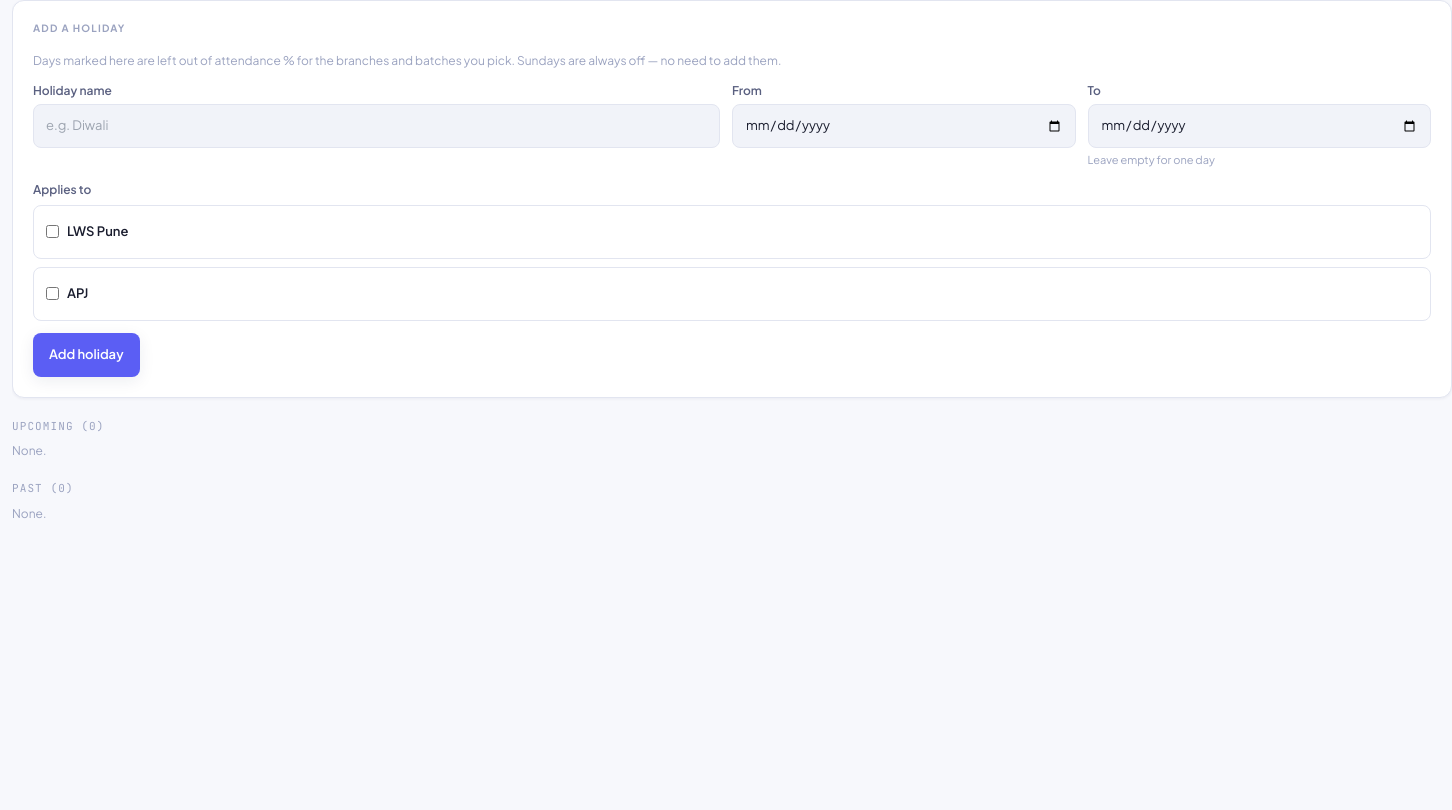
Scenario: HolidaysTab › shows the reason a save was refused and keeps the form filled
In the field labelled "Holiday name": (376, 126) x1=33 y1=104 x2=720 y2=148, type "Diwali"
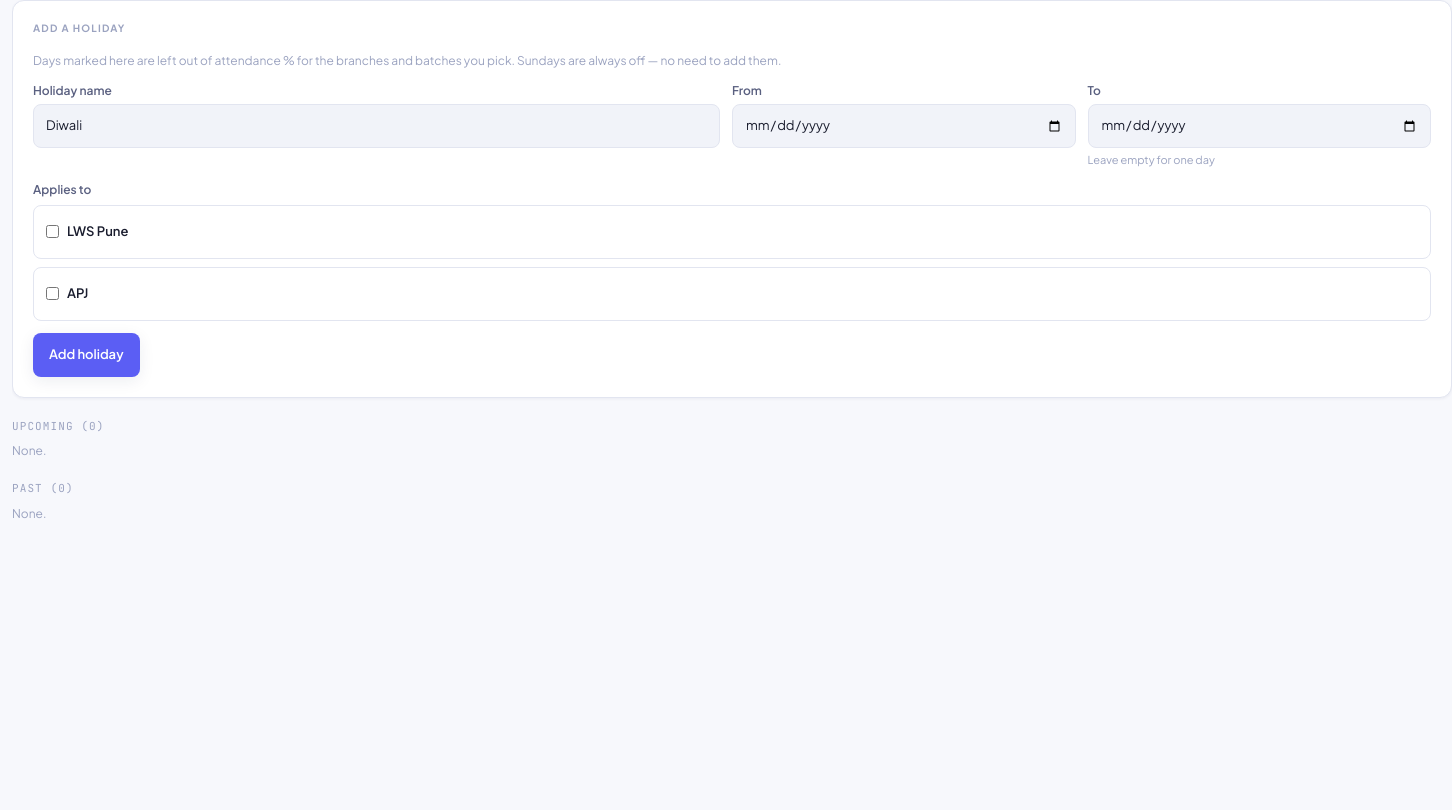
In the date field labelled "From": (904, 126) x1=732 y1=104 x2=1076 y2=148, type "2026-11-09"
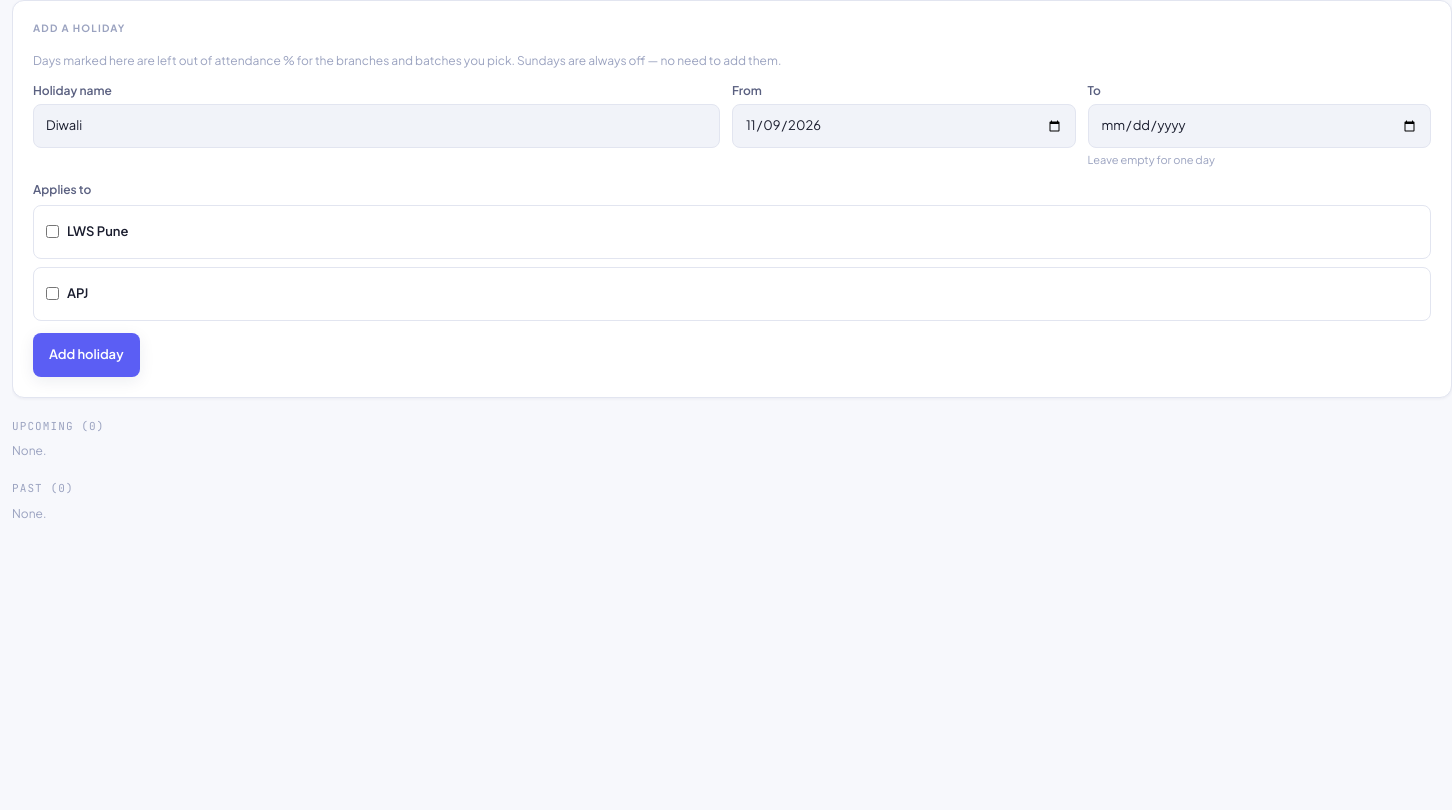
Click the button "Add holiday": (86, 354) x1=33 y1=332 x2=140 y2=376
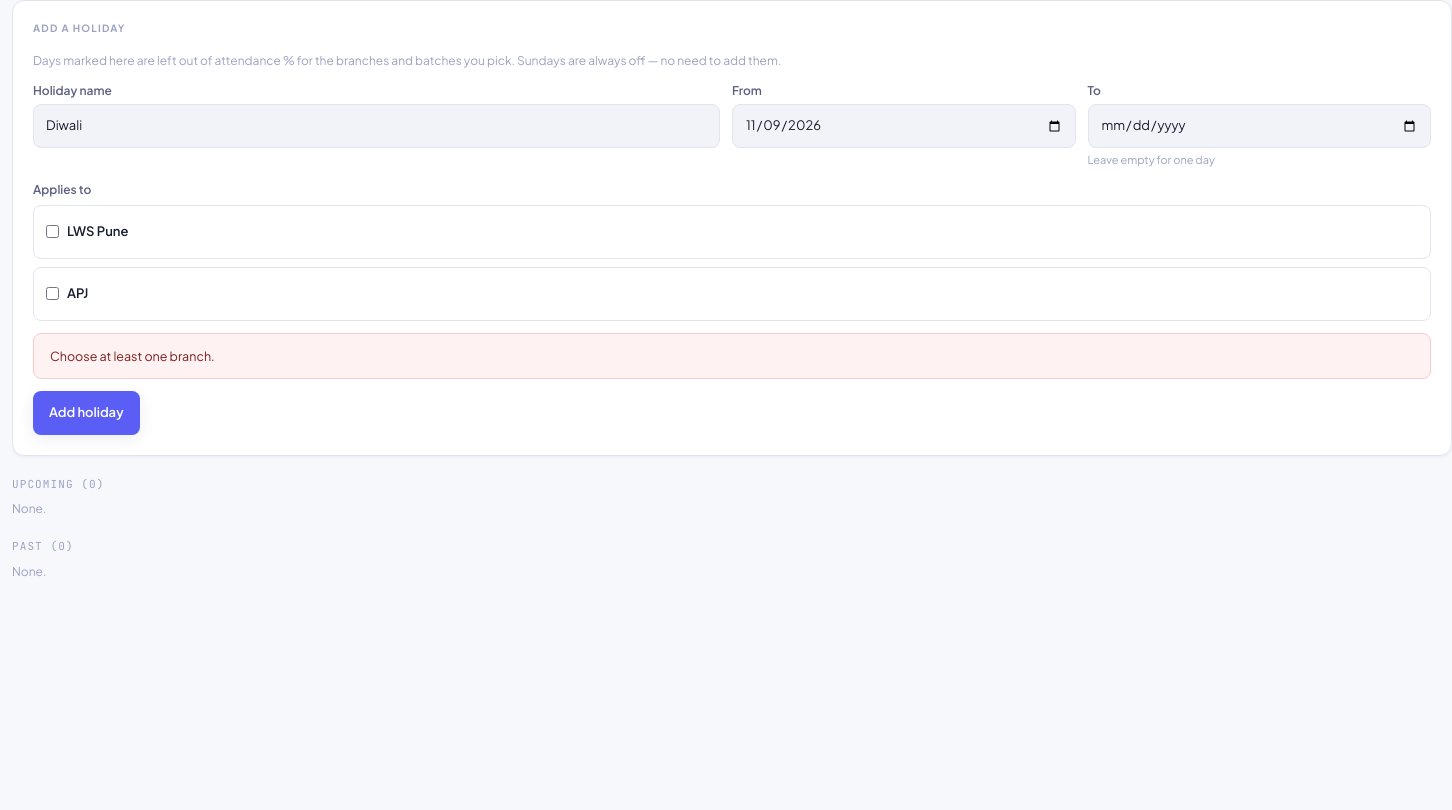
Result: the message reads "Choose at least one branch." at x1=50 y1=348 x2=215 y2=364
